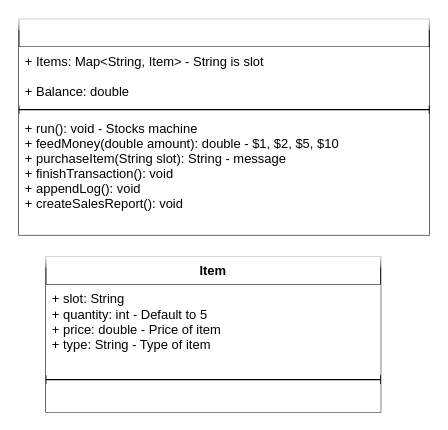
Image size: 448x430. Some labels were removed from this diagram. Here are the shapes that lost their labels. From the top down, the box of each, then its label:
(18, 18, 429, 235): VendingMachine
(45, 383, 380, 411): + purchaseMessage(): String
